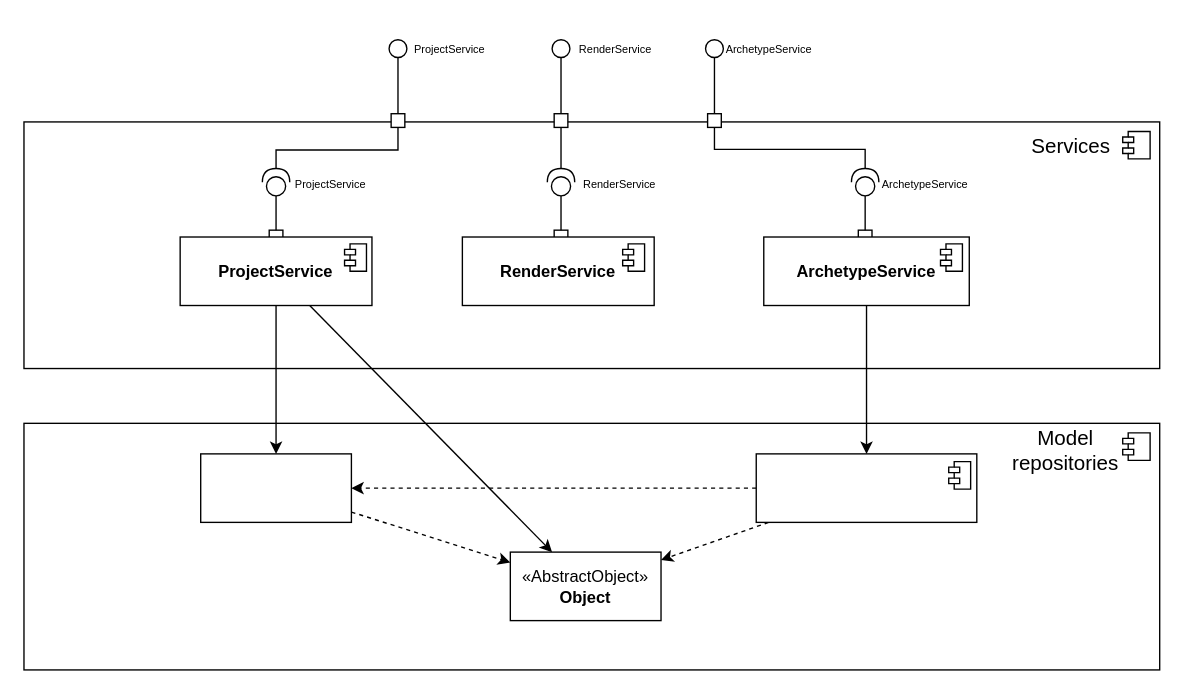
This 1184x693 diagram has some shape labels left out. Here are the shapes that lost their labels. From the top down, the box of each, then its label:
(199, 453, 351, 522): «AbstractObject» Project
(755, 453, 977, 522): ArchetypeManager
